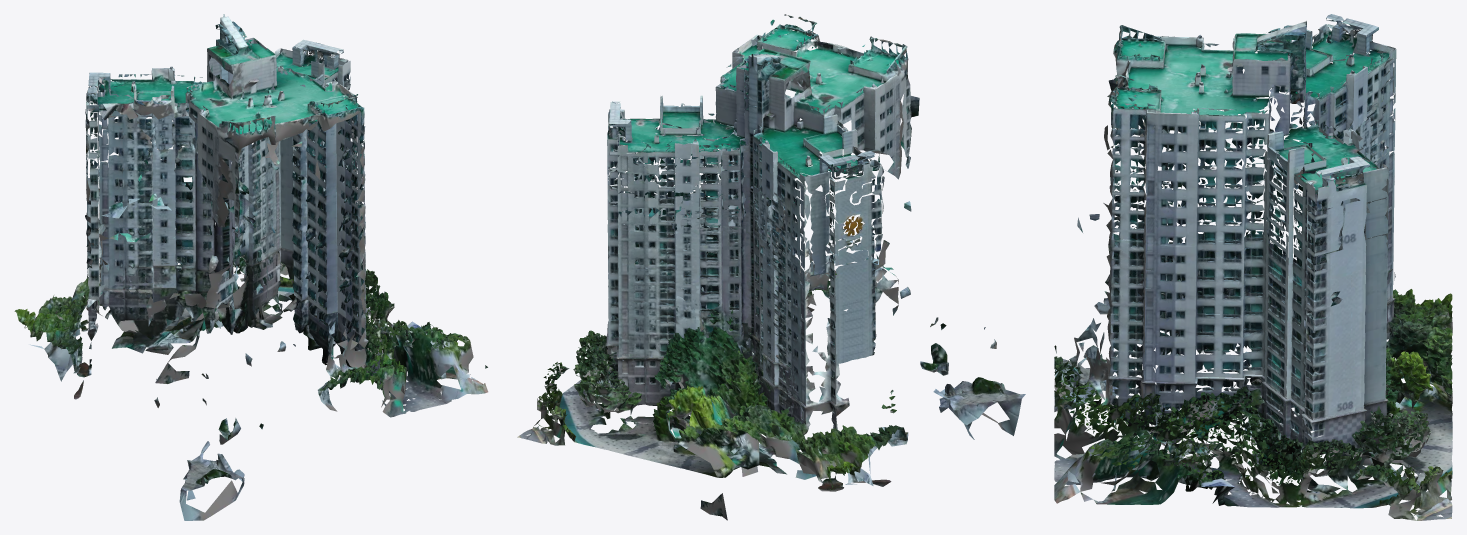
The model's file is all-transformed.glb.
The picture shows the model from 3 angles, left to right: view 1: azimuth 30°, elevation 25°; view 2: azimuth 150°, elevation 25°; view 3: azimuth 270°, elevation 25°; orthographic projection. The views are drawn at different scales.
Visible parts, largest first — view 1: Tile_1; view 2: Tile_1; view 3: Tile_1.
Boxes of the visible parts, x1,y1,x2,y2 form: Tile_1: (14,14,488,520); Tile_1: (517,14,1025,520); Tile_1: (1054,14,1452,520).
Bounding box in the file's own units: 55.3 × 68.77 × 53.64.
1 material, 1 textured.
